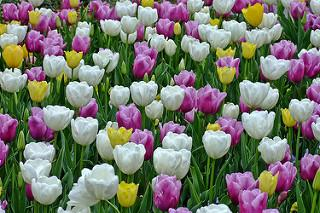tulip: (153, 146, 192, 182), (85, 163, 118, 201), (151, 173, 181, 210), (113, 143, 146, 174), (225, 171, 257, 202), (198, 83, 227, 115), (242, 111, 275, 139), (202, 130, 231, 160), (31, 176, 62, 204), (132, 47, 160, 78), (42, 105, 75, 131), (258, 136, 287, 165), (240, 80, 270, 108), (0, 68, 29, 94), (130, 80, 159, 106), (260, 55, 290, 80), (21, 160, 53, 183), (65, 81, 94, 106), (72, 117, 98, 144), (159, 85, 185, 110), (0, 113, 22, 142), (116, 181, 140, 206), (241, 3, 264, 26), (290, 99, 312, 122), (27, 80, 50, 102), (109, 86, 130, 108), (189, 41, 210, 62), (137, 5, 159, 25), (289, 58, 304, 82), (64, 51, 85, 68), (115, 0, 137, 16), (218, 67, 237, 82), (44, 160, 44, 160)
